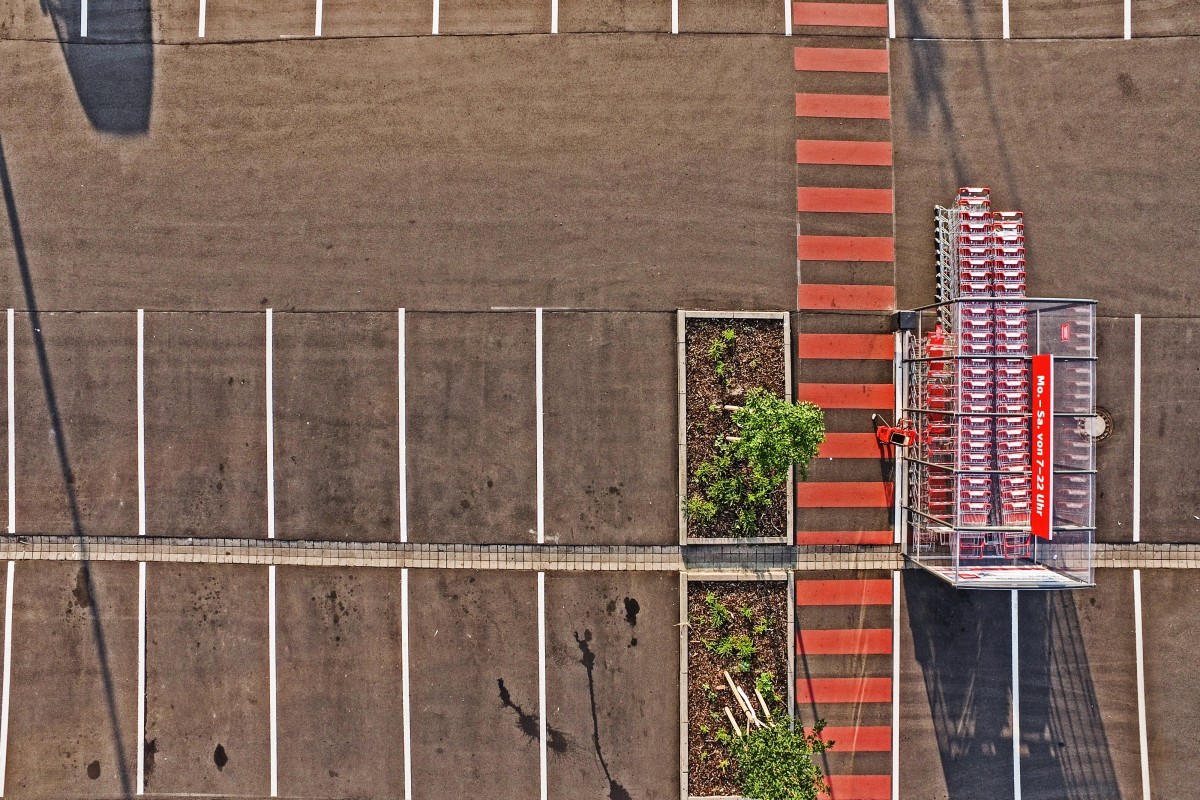empyt_space: (525, 300, 693, 553), (992, 296, 1150, 558), (387, 304, 553, 551), (256, 303, 414, 546), (397, 558, 555, 800), (261, 558, 417, 800), (1007, 544, 1154, 800), (532, 565, 692, 800), (131, 558, 286, 800), (132, 302, 279, 547), (4, 556, 148, 800), (4, 305, 150, 539), (888, 564, 1027, 800)
